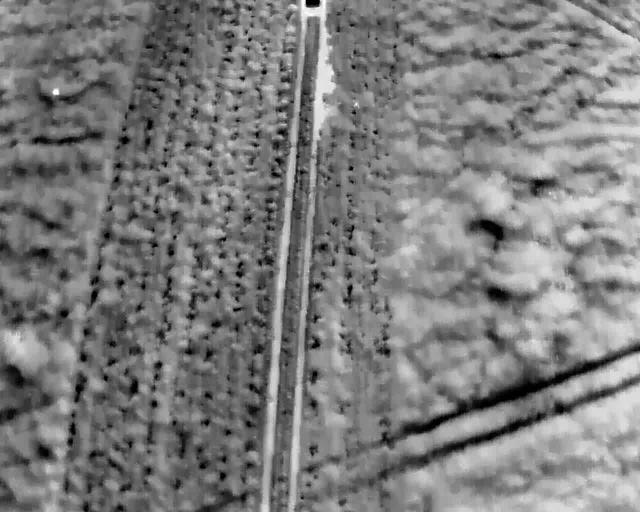car: (302, 0, 325, 17)
